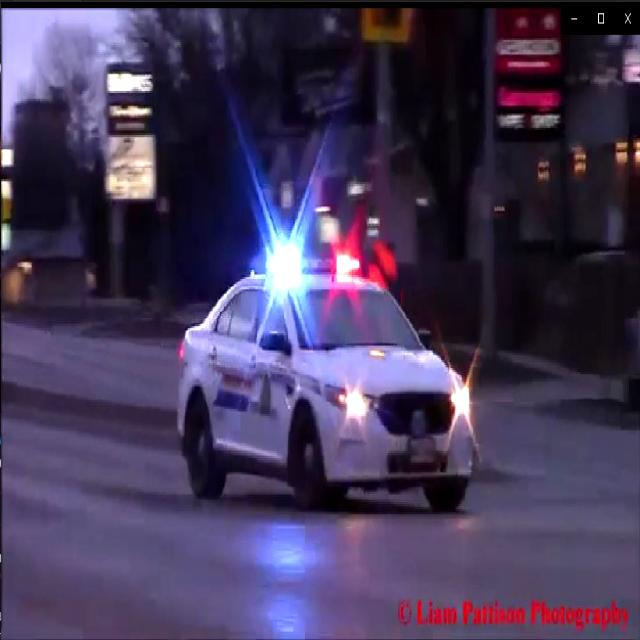emergency: (177, 226, 473, 502)
